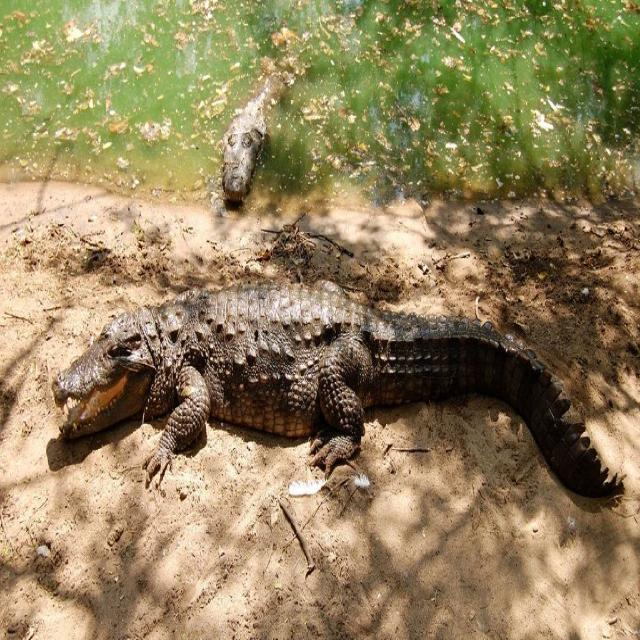crocodile: (23, 261, 639, 559)
